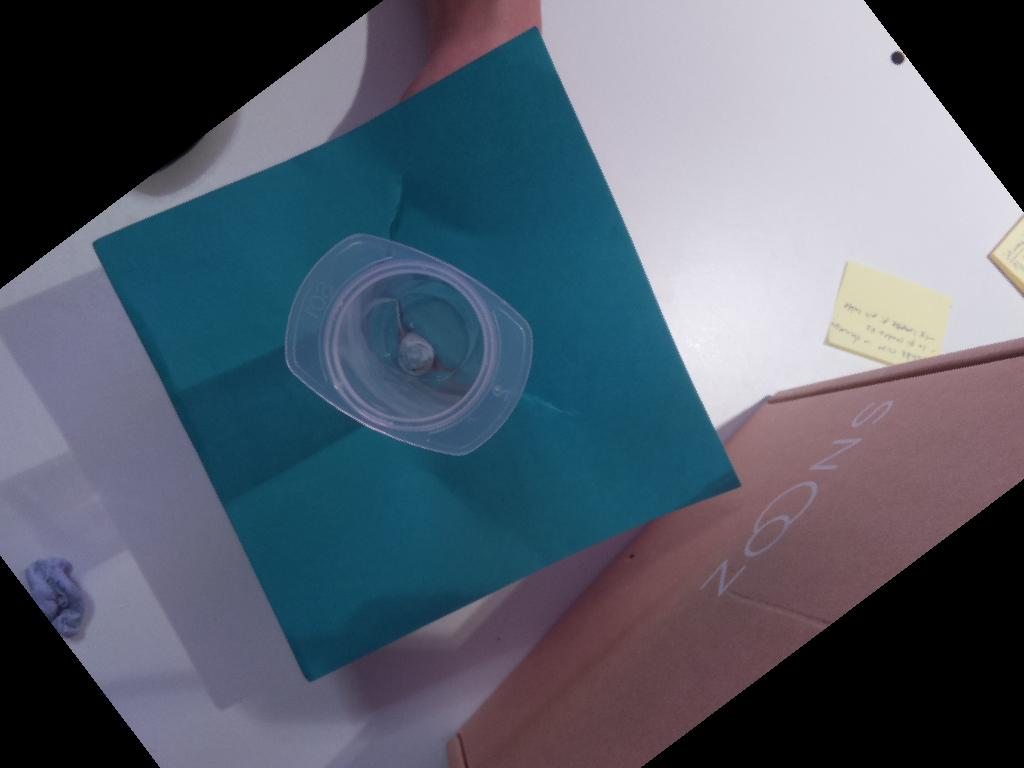clean: (275, 224, 541, 462)
